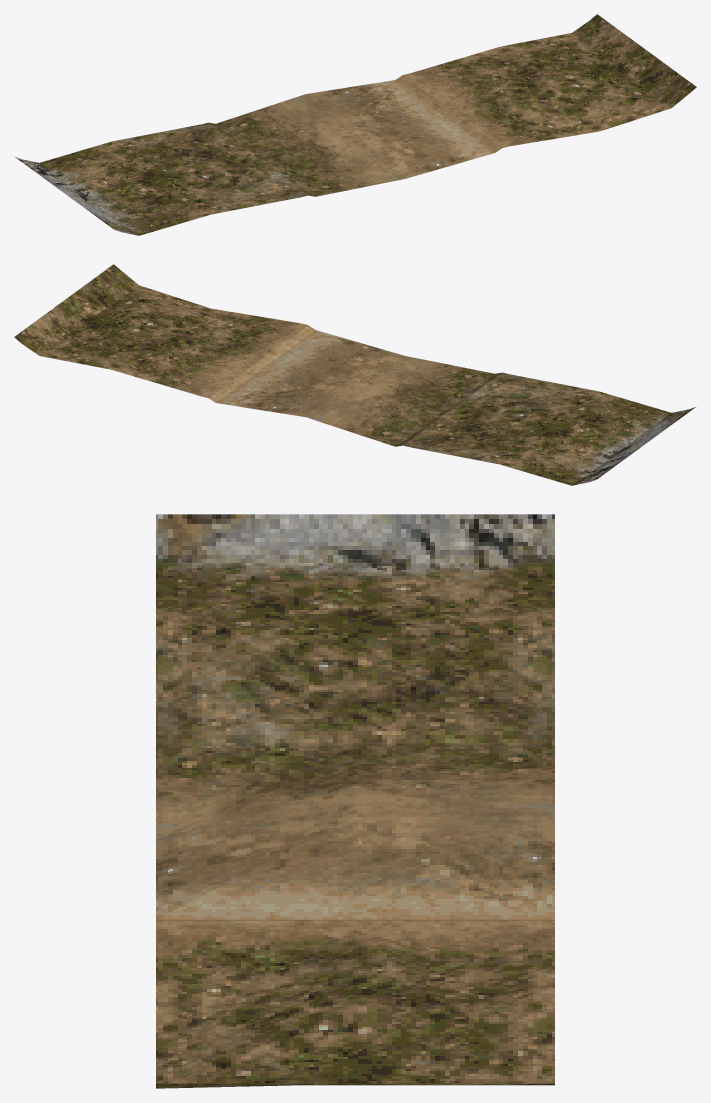
The model's file is 2_road_01_start_downhill.glb.
3 views of the same model, one above another, from view 1: azimuth 30°, elevation 25°; view 2: azimuth 150°, elevation 25°; view 3: azimuth 270°, elevation 25° (orthographic). The views are drawn at different scales.
Visible parts, largest first — view 1: 2_road_01_start_downhill; view 2: 2_road_01_start_downhill; view 3: 2_road_01_start_downhill.
Part boxes in pixels (box(x1,y1,x2,y2)): 2_road_01_start_downhill: box(15, 14, 696, 235); 2_road_01_start_downhill: box(14, 264, 696, 485); 2_road_01_start_downhill: box(156, 514, 554, 1088).
Bounding box in the file's own units: 27.01 × 0.914 × 8.
1 material, 1 textured.
